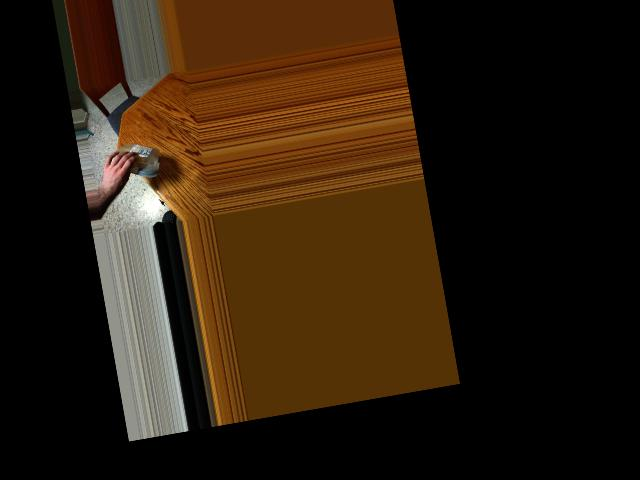cheese: (116, 142, 157, 177)
